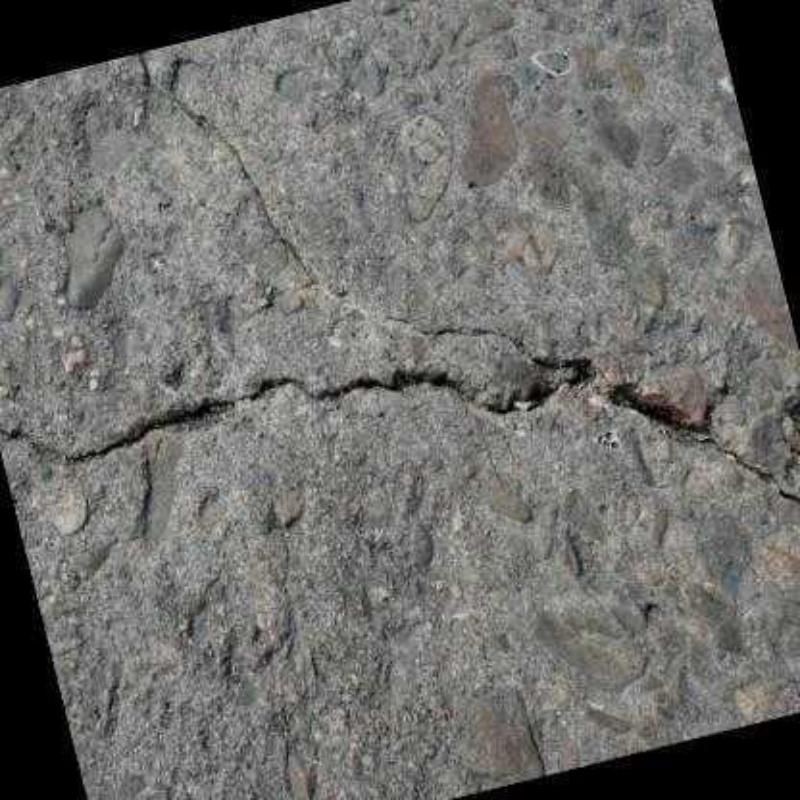crack: (138, 70, 568, 379), (0, 357, 798, 512)
